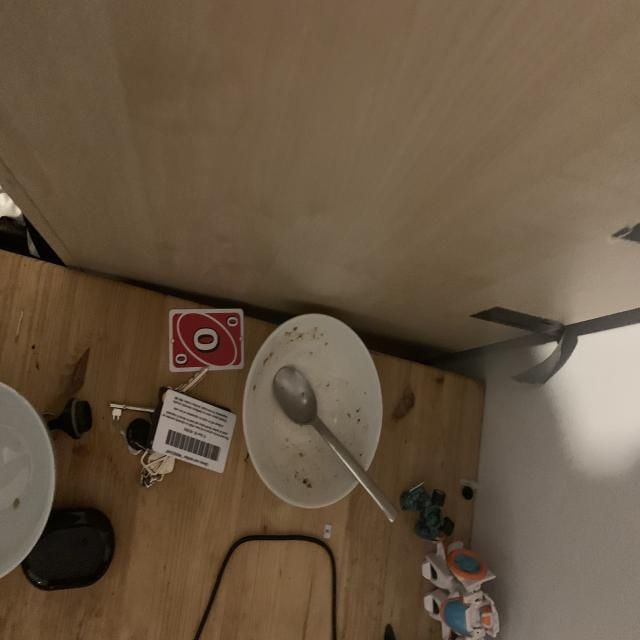lred-0: (223, 314, 241, 329)
